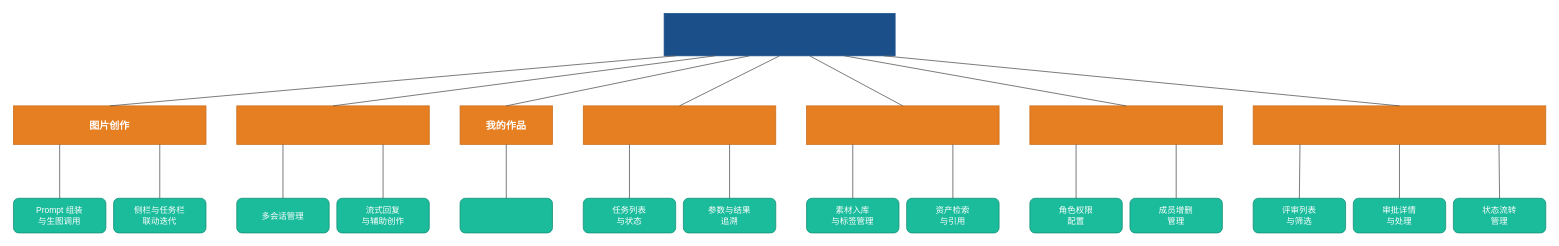
Some shapes in this 1559 by 246 pixel diagram are drawn without their labels. The shapes that lost their labels are listed below. From the top down, each one's centre as x and y in pixels, then its label:
At (x=779, y=34): "图像生成管理系统".
At (x=332, y=124): "AI 对话".
At (x=679, y=124): "任务管理".
At (x=902, y=124): "空间资产".
At (x=1125, y=124): "成员管理".
At (x=1399, y=124): "审批中心".
At (x=505, y=215): "成功记录 卡片浏览".
